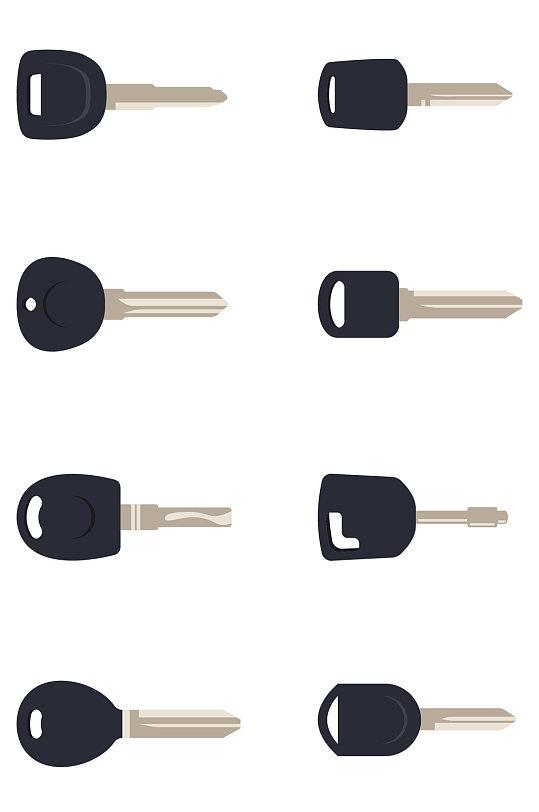key: (285, 457, 521, 583), (9, 244, 242, 370), (11, 42, 232, 169), (12, 463, 239, 574), (11, 672, 253, 775), (297, 255, 531, 354), (296, 48, 523, 148), (306, 669, 522, 765)
